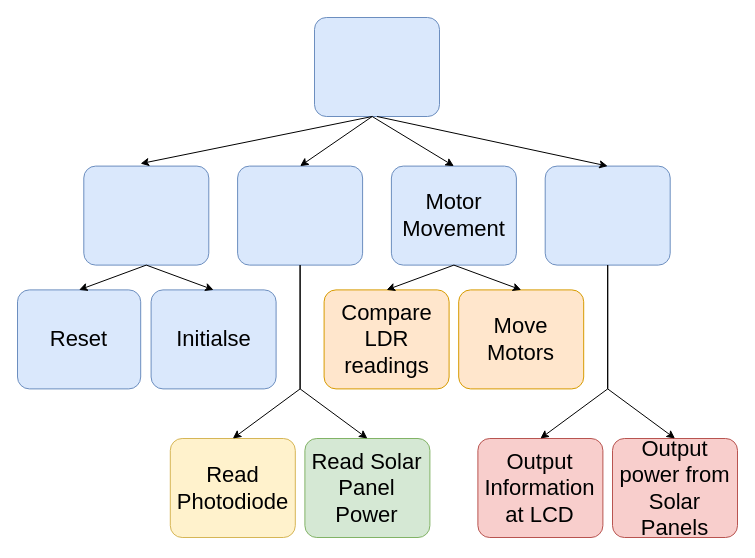
The diagram is 755 pixels wide and 558 high, and some of its shapes have lost their labels. The centre of each missing label's shape, as x and y in pixels:
"Input" goes at point (300, 215).
"Intialise" goes at point (146, 215).
"Output" goes at point (607, 215).
"Solar Tracker" goes at point (377, 66).
